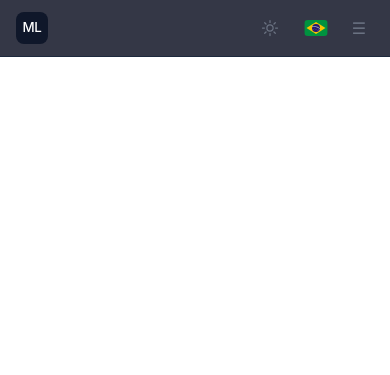
Test: Header › mobile menu › opens the mobile menu when the button is clicked
Click the button named "open menu" at (359, 28), box [344,8,374,48]
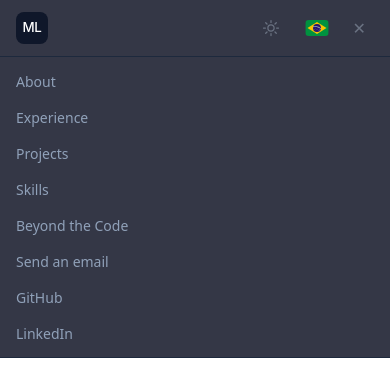
expect the navigation bar named "mobile" is shown: met
